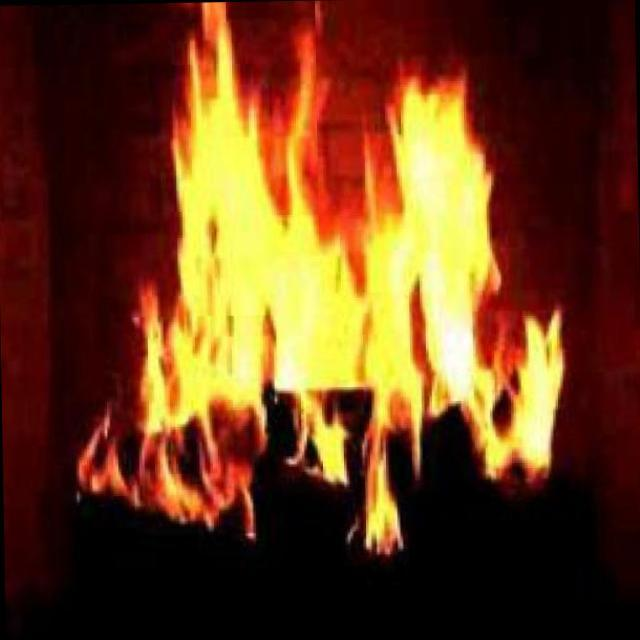Fire: (157, 49, 534, 485)
